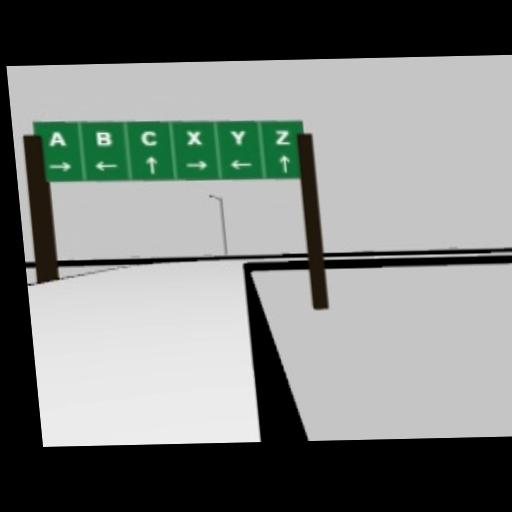A: (47, 127, 66, 145)
B: (95, 130, 112, 144)
C: (138, 129, 159, 145)
Left: (93, 159, 117, 169), (229, 158, 252, 168)
Right: (185, 159, 208, 169), (49, 160, 71, 170)
Straight: (144, 154, 158, 174), (278, 153, 290, 171)
X: (185, 128, 202, 144)
Y: (229, 128, 246, 144)
Z: (274, 127, 291, 143)
